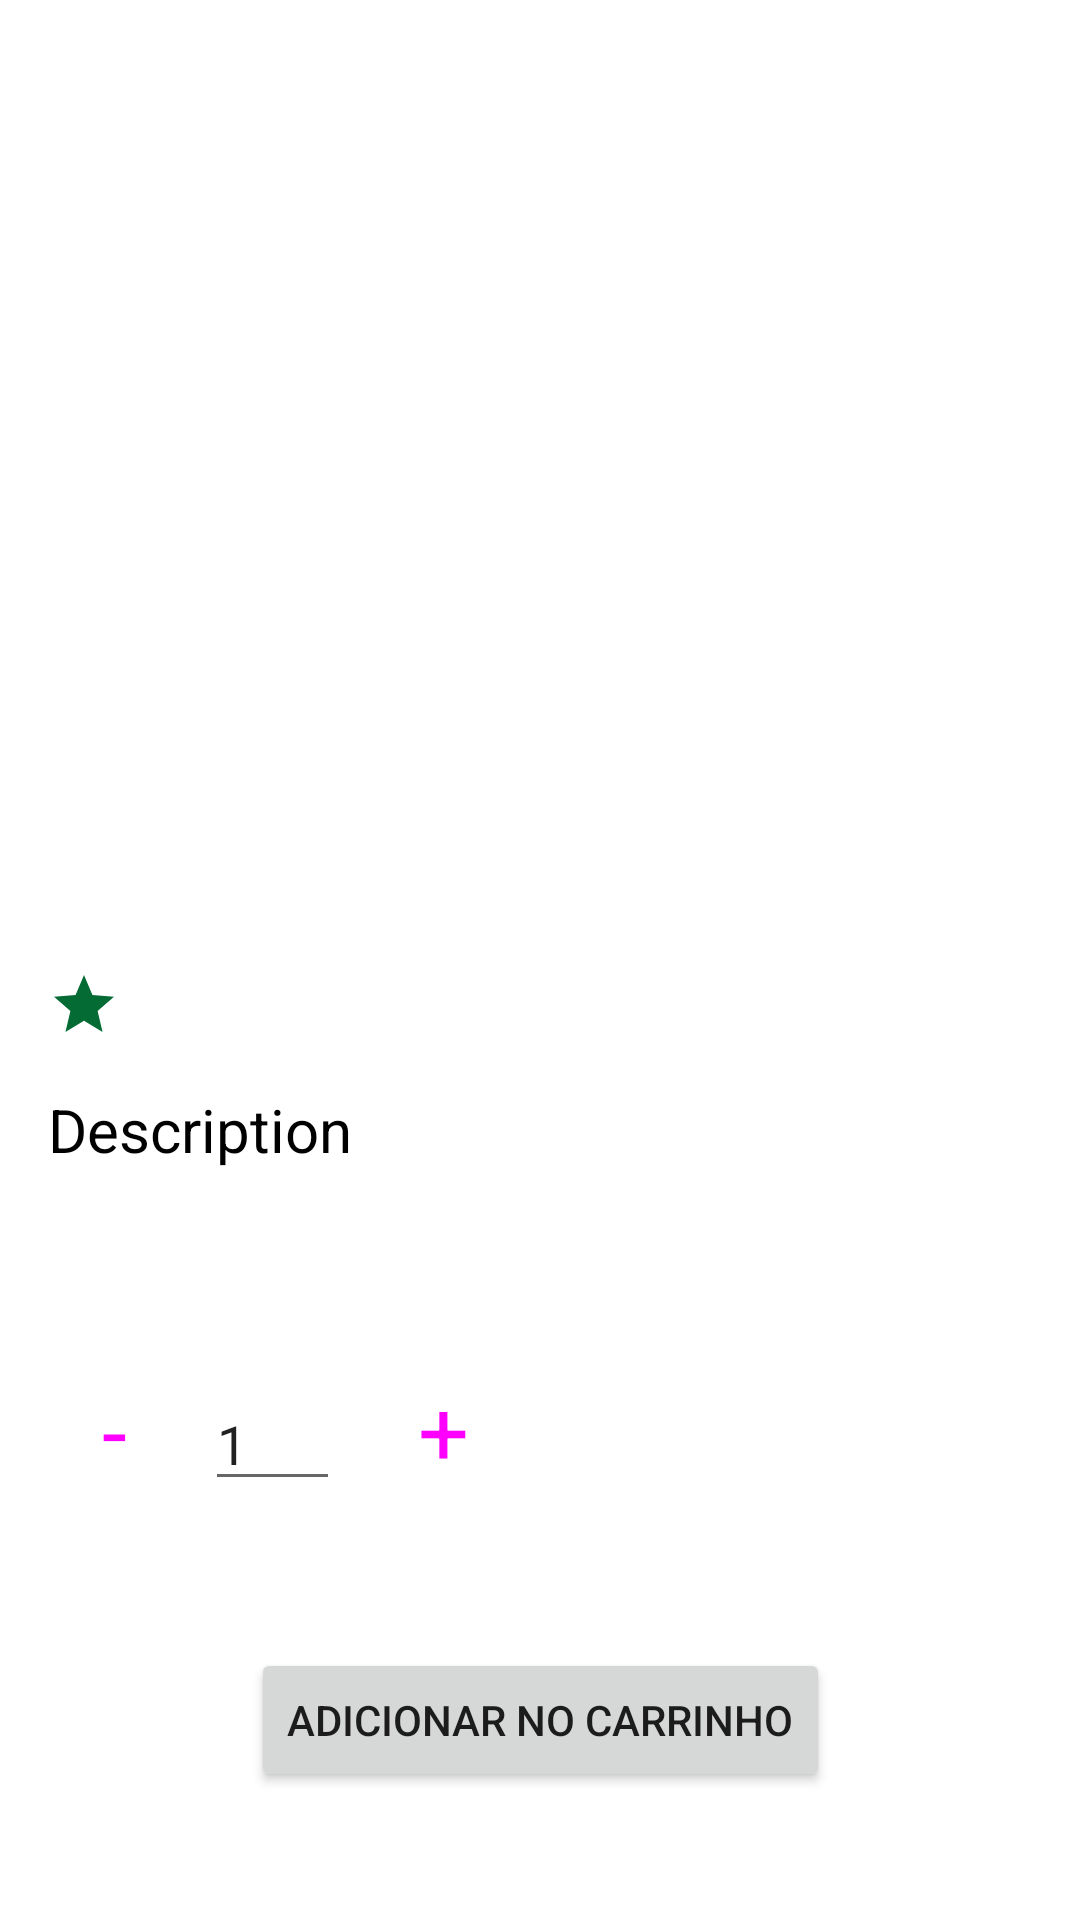

Screen size 1080*1920. Icon name, then its center in pixels as (x=x, y=y):
star: (x=84, y=1003)
